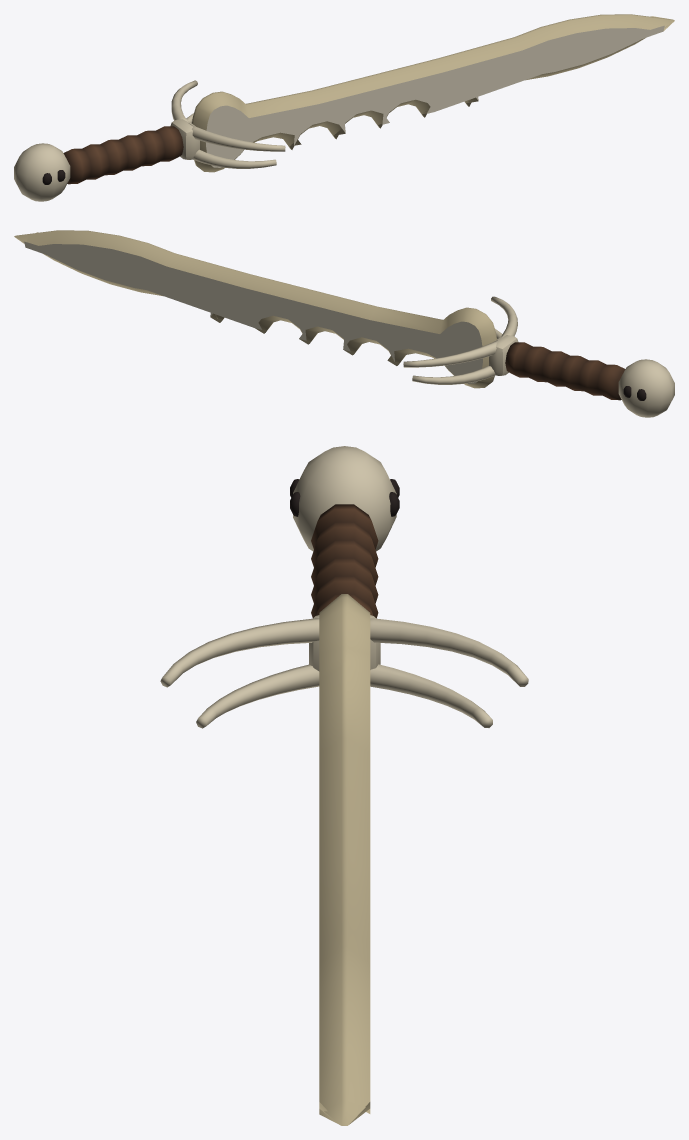
The model's file is sword_bone.glb.
3 views of the same model, one above another, from view 1: azimuth 30°, elevation 25°; view 2: azimuth 150°, elevation 25°; view 3: azimuth 270°, elevation 25° (orthographic). The views are drawn at different scales.
Parts seen in each view (by area): view 1: sword_bone; view 2: sword_bone; view 3: sword_bone.
Boxes of the visible parts, x1,y1,x2,y2 form: sword_bone: (14, 14, 674, 201); sword_bone: (14, 230, 674, 417); sword_bone: (160, 446, 528, 1125).
Size of the model in its own units: 1.48 by 0.1695 by 0.3602.
